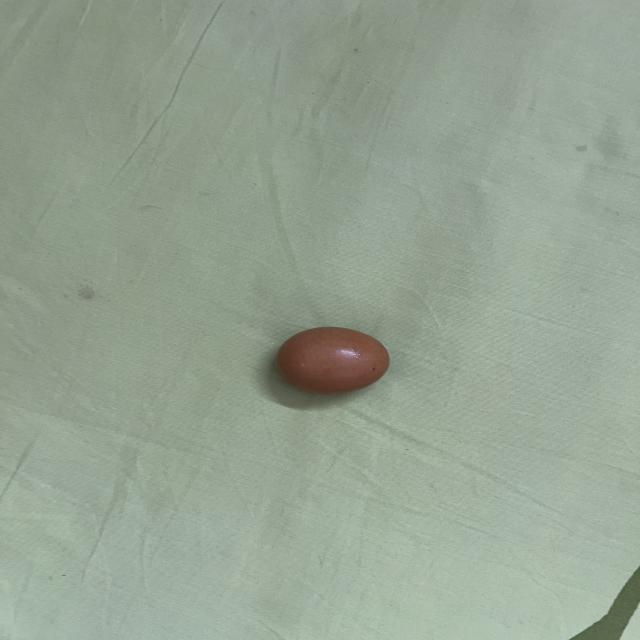Egg: (269, 316, 399, 397)
